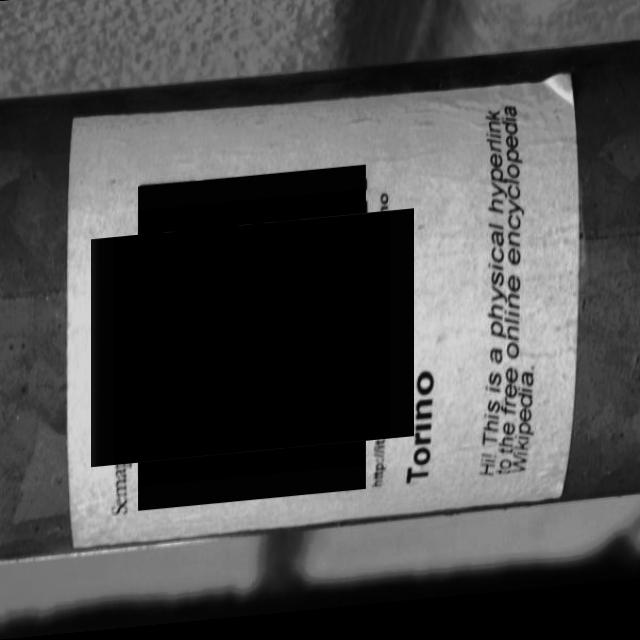qr_code: (114, 193, 390, 490)
